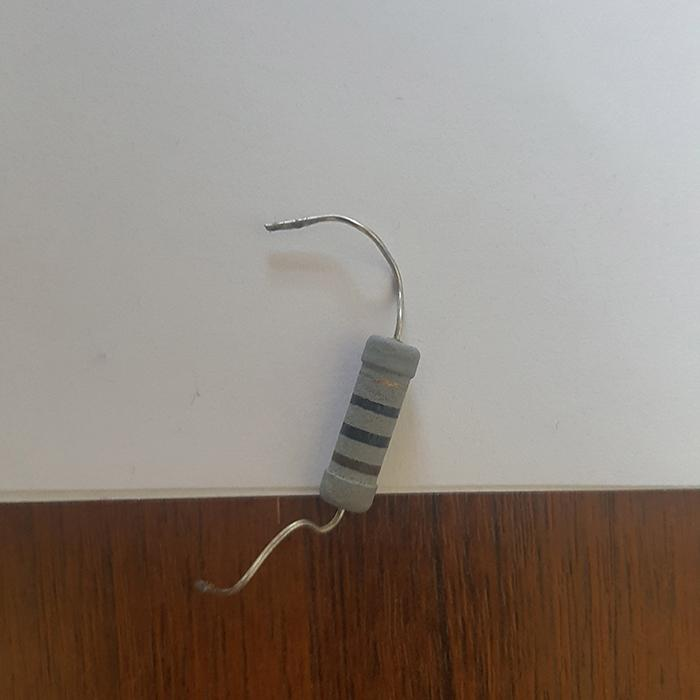resistor: (319, 332, 421, 514)
